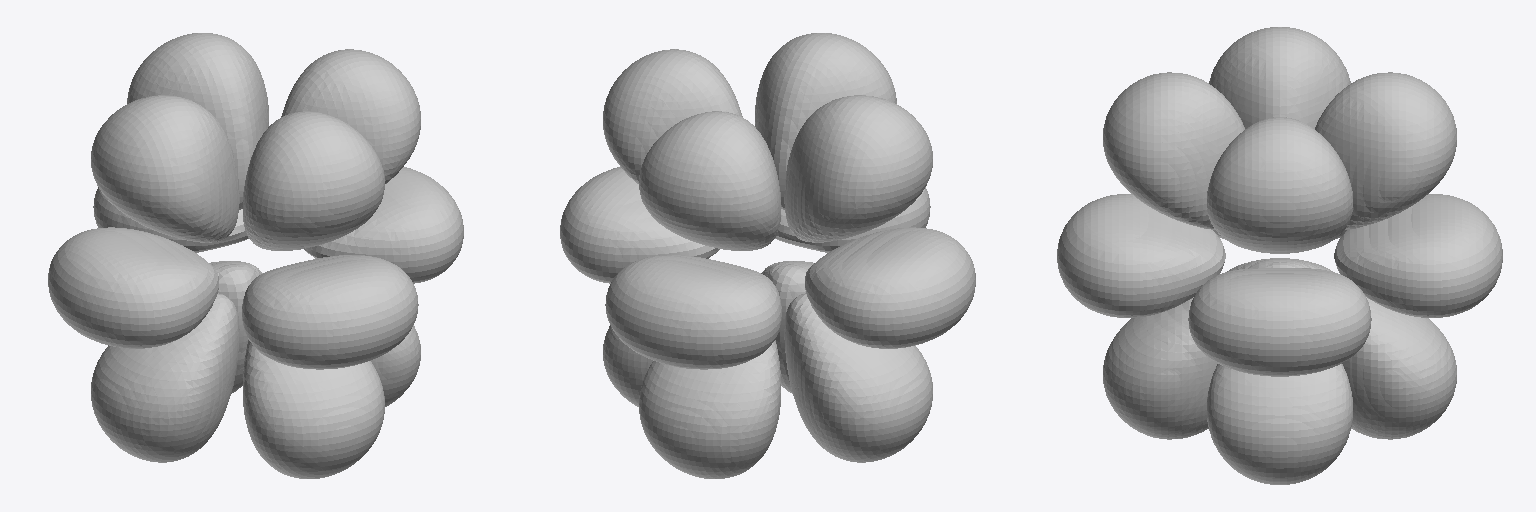
Rendered from orb_n=5_ l=4 _m=2.obj.
3 renders of one model, left to right at view 1: azimuth 30°, elevation 25°; view 2: azimuth 150°, elevation 25°; view 3: azimuth 270°, elevation 25°, orthographic.
Parts seen in each view (by area): view 1: orb_n=5__l=4__m=2; view 2: orb_n=5__l=4__m=2; view 3: orb_n=5__l=4__m=2.
Part boxes in pixels (bbox=[...]): orb_n=5__l=4__m=2: bbox=[48, 33, 463, 478]; orb_n=5__l=4__m=2: bbox=[560, 33, 975, 478]; orb_n=5__l=4__m=2: bbox=[1057, 27, 1502, 484].
Size of the model in its own units: 93.29 by 82.01 by 93.29.